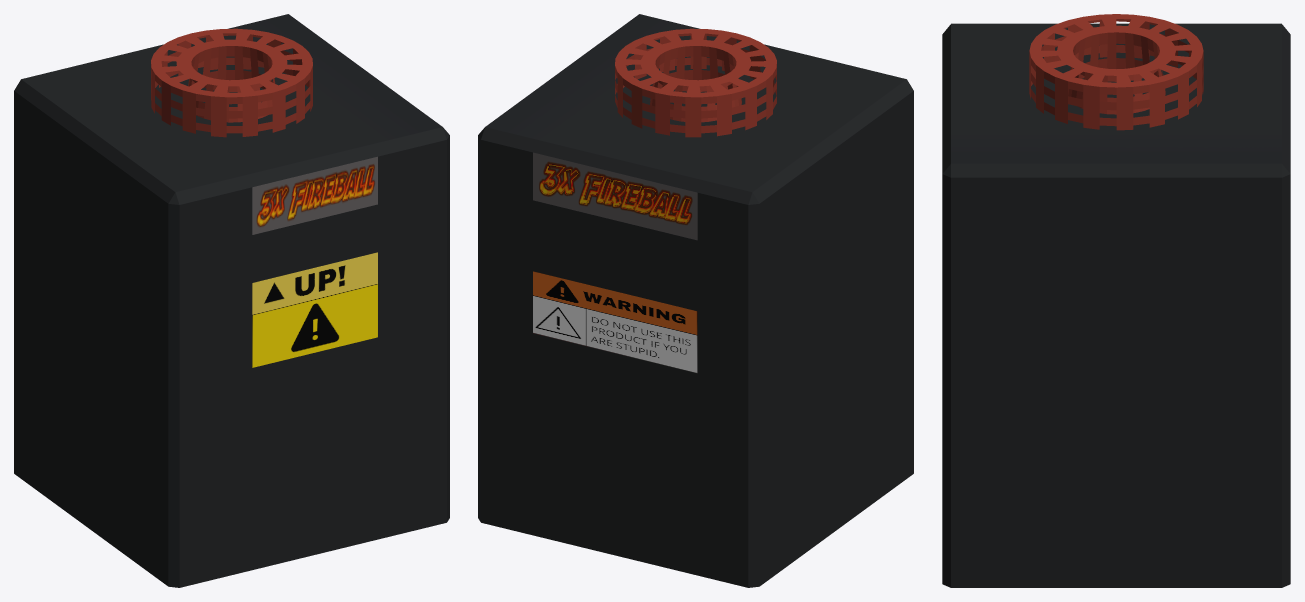
File: 3XFireMachineV2.fbx
The picture shows the model from 3 angles, left to right: view 1: azimuth 30°, elevation 25°; view 2: azimuth 150°, elevation 25°; view 3: azimuth 270°, elevation 25°; orthographic projection. The views are drawn at different scales.
Parts seen in each view (by area): view 1: Cube, Cylinder; view 2: Cube, Cylinder; view 3: Cube, Cylinder.
Part boxes in pixels (x1=…): Cube: x1=14, y1=14, x2=449, y2=587; Cylinder: x1=151, y1=28, x2=312, y2=137; Cube: x1=478, y1=14, x2=913, y2=587; Cylinder: x1=615, y1=28, x2=776, y2=137; Cube: x1=942, y1=23, x2=1290, y2=587; Cylinder: x1=1029, y1=14, x2=1203, y2=130.
Bounding box in the file's own units: 60 × 88.16 × 60.
